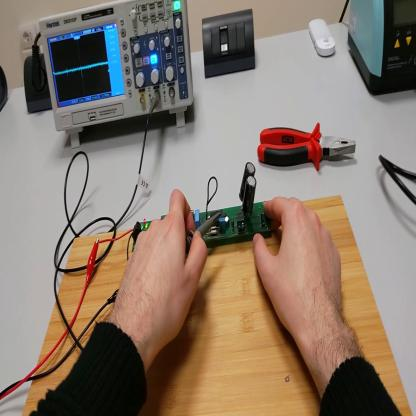hand: (116, 190, 208, 349), (254, 194, 347, 349)
high voltage board: (101, 162, 273, 261)
oscilloscope: (41, 1, 196, 154)
oscilloscope probe tip: (187, 213, 220, 258)
pliers: (253, 119, 356, 172)
socket: (25, 47, 53, 117), (2, 64, 9, 112)
welder station: (347, 1, 416, 100)
working area: (25, 196, 413, 416)
